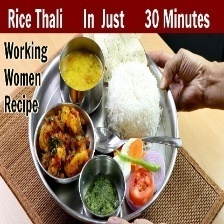rice: (97, 60, 168, 141)
